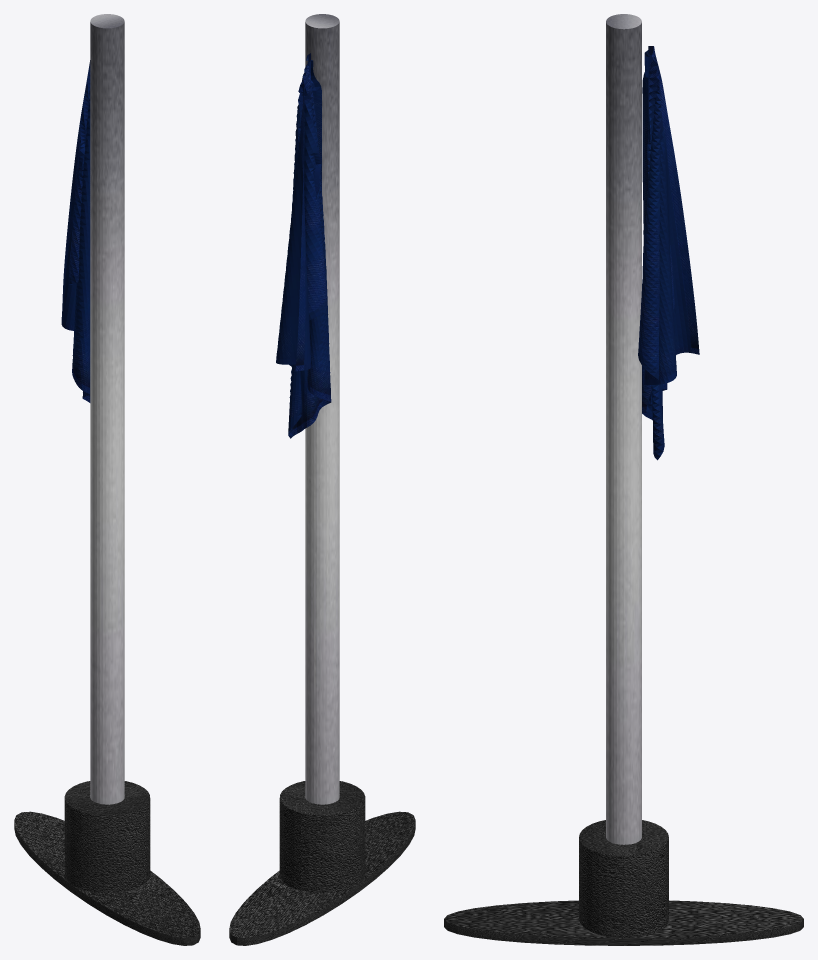
File: tiro_esquina.obj
3 views of the same model, side by side, from view 1: azimuth 30°, elevation 25°; view 2: azimuth 150°, elevation 25°; view 3: azimuth 270°, elevation 25° (orthographic). The views are drawn at different scales.
Visible parts, largest first — view 1: Tubo_Material.002, Soporte_Material.003, Pinza_Material.003, Banderin_Material.001; view 2: Tubo_Material.002, Banderin_Material.001, Soporte_Material.003, Pinza_Material.003; view 3: Tubo_Material.002, Banderin_Material.001, Pinza_Material.003, Soporte_Material.003.
Boxes of the visible parts, x1=… form: Tubo_Material.002: x1=90, y1=14, x2=124, y2=804; Soporte_Material.003: x1=64, y1=781, x2=150, y2=892; Pinza_Material.003: x1=14, y1=811, x2=200, y2=945; Banderin_Material.001: x1=61, y1=60, x2=90, y2=402; Tubo_Material.002: x1=305, y1=14, x2=339, y2=804; Banderin_Material.001: x1=276, y1=53, x2=331, y2=438; Soporte_Material.003: x1=279, y1=781, x2=365, y2=892; Pinza_Material.003: x1=229, y1=811, x2=415, y2=945; Tubo_Material.002: x1=606, y1=14, x2=641, y2=844; Banderin_Material.001: x1=638, y1=46, x2=699, y2=460; Pinza_Material.003: x1=444, y1=900, x2=803, y2=945; Soporte_Material.003: x1=579, y1=820, x2=668, y2=937.
Size of the model in its own units: 1 by 11.1 by 4.
3 materials, 3 textured.
